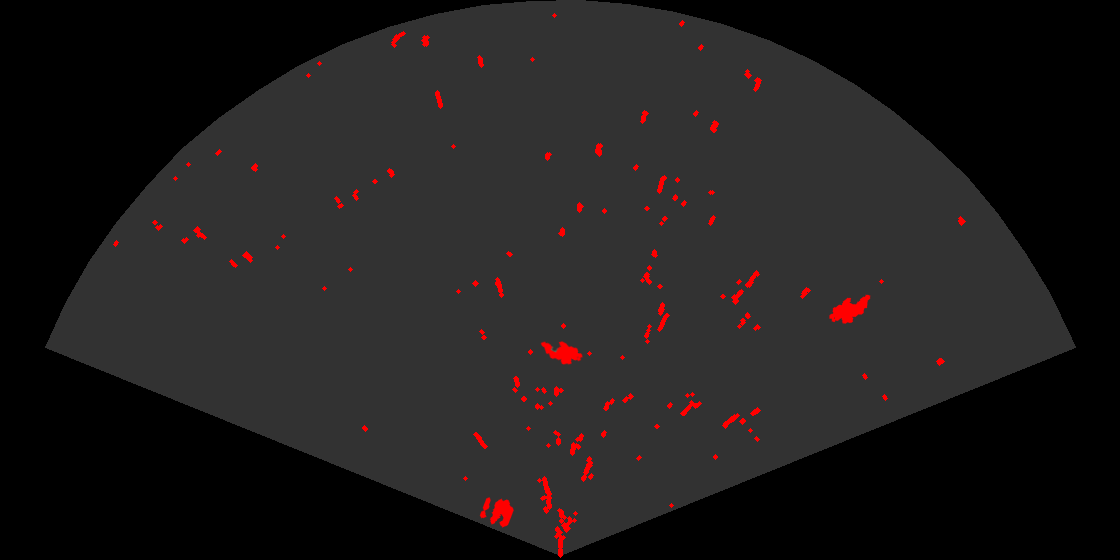AUV: (828, 293, 872, 325), (539, 339, 585, 366)
ball: (478, 496, 515, 529)
